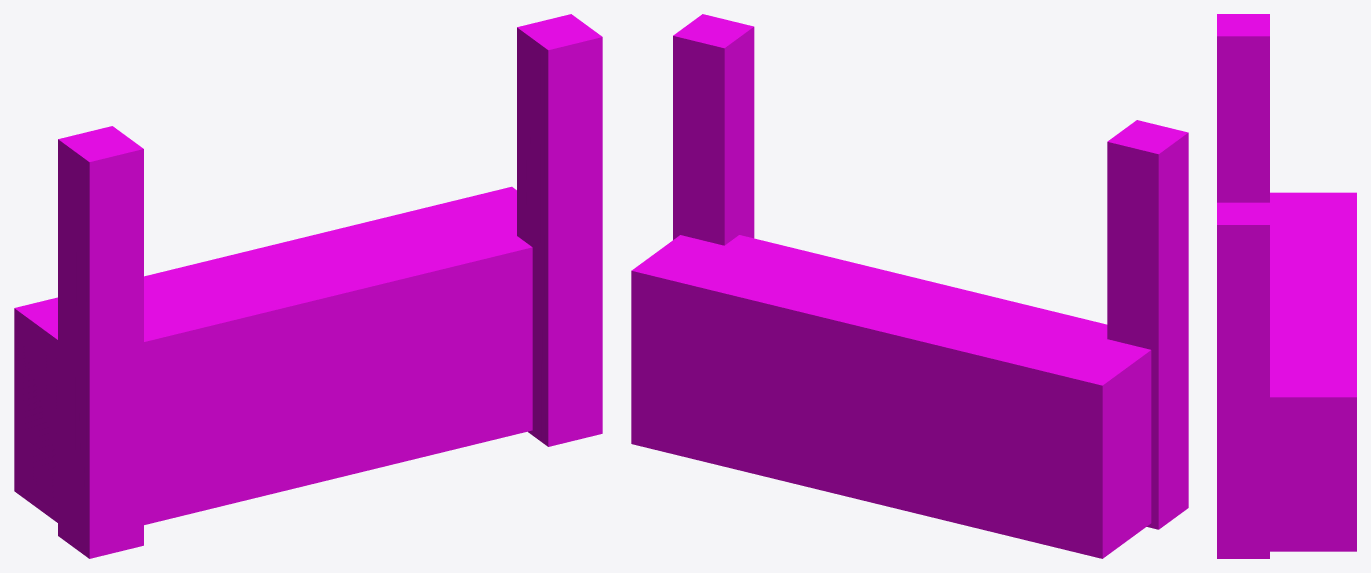
The model's file is bridge-abutment-garden.collision.glb.
The picture shows the model from 3 angles, left to right: view 1: azimuth 30°, elevation 25°; view 2: azimuth 150°, elevation 25°; view 3: azimuth 270°, elevation 25°; orthographic projection. The views are drawn at different scales.
Parts seen in each view (by area): view 1: bridge_abutment_garden_collision_collision; view 2: bridge_abutment_garden_collision_collision; view 3: bridge_abutment_garden_collision_collision.
Boxes of the visible parts, x1,y1,x2,y2 form: bridge_abutment_garden_collision_collision: (14,14,602,558); bridge_abutment_garden_collision_collision: (631,14,1188,558); bridge_abutment_garden_collision_collision: (1217,14,1356,558).
Bounding box in the file's own units: 2.64 × 1.95 × 0.74.
